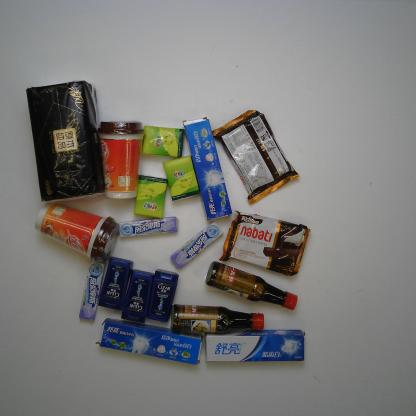Candy: (170, 221, 224, 269), (78, 260, 106, 322), (118, 216, 180, 238)
Dessert: (211, 110, 300, 206), (218, 210, 311, 276)
Instant Drink: (34, 204, 120, 262), (96, 118, 146, 199)
Personal Hygiene: (182, 116, 233, 222), (94, 318, 204, 365), (204, 329, 306, 362), (98, 256, 134, 310), (120, 269, 156, 323), (146, 269, 179, 322)
Seasoner: (204, 260, 298, 310), (170, 304, 264, 335)
Tissue: (26, 80, 104, 204), (162, 155, 200, 202), (133, 175, 168, 219), (141, 125, 185, 158)
